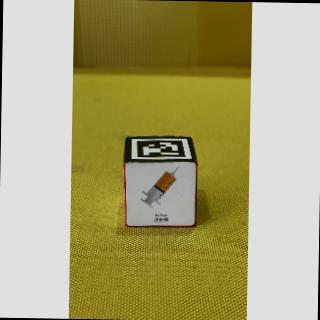Syringe: (126, 160, 198, 228)
